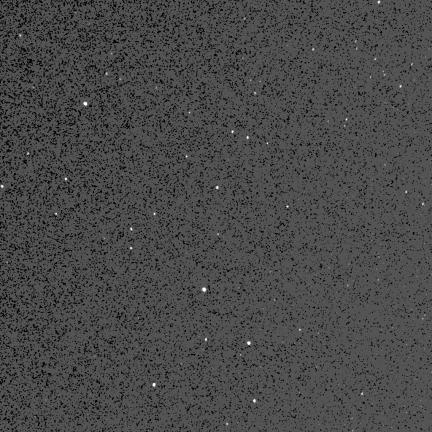blob: (202, 287, 206, 292), (247, 341, 251, 345), (253, 399, 257, 403), (130, 227, 133, 232), (312, 48, 315, 52), (216, 186, 219, 190), (361, 392, 364, 396), (27, 152, 30, 156), (19, 34, 22, 38), (205, 338, 208, 342), (153, 383, 156, 387), (405, 191, 408, 194), (55, 213, 58, 216), (422, 203, 425, 206), (84, 102, 87, 105), (130, 247, 133, 250), (65, 178, 68, 181), (217, 233, 220, 236), (106, 72, 108, 76), (232, 130, 234, 134), (247, 136, 249, 140), (346, 118, 348, 122), (400, 85, 402, 89), (378, 0, 380, 3), (154, 213, 156, 216), (186, 155, 188, 158), (300, 329, 302, 331)
